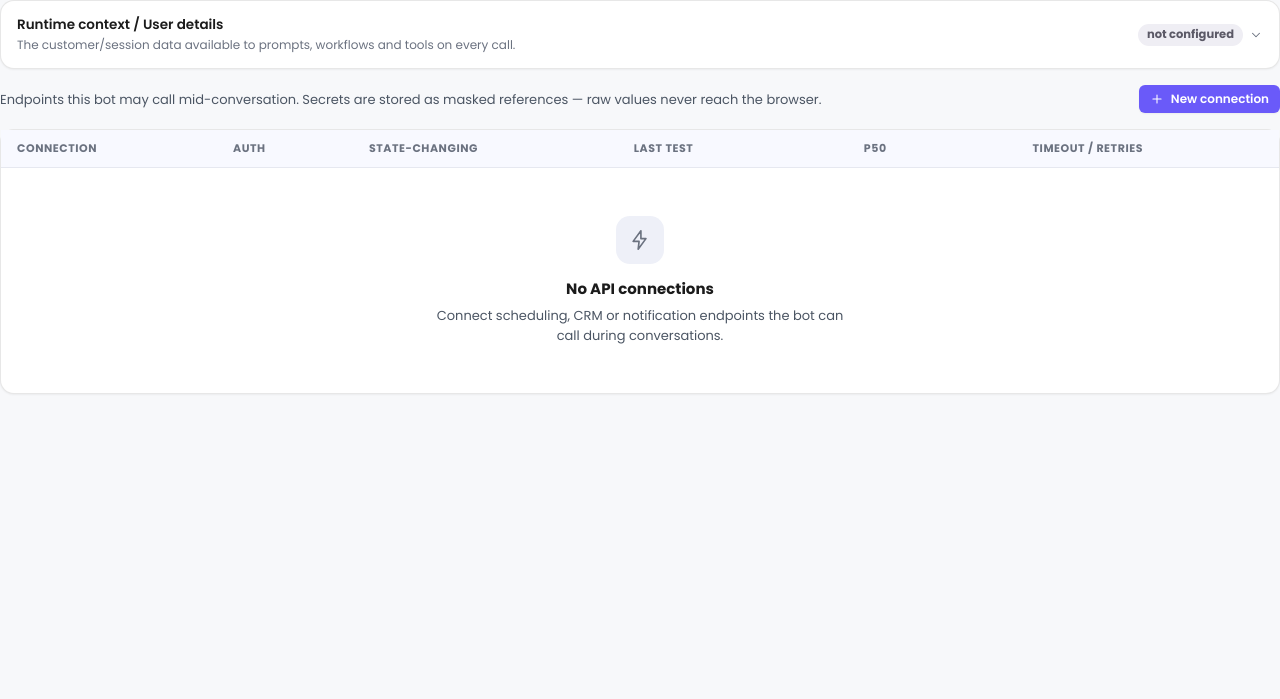
Test: ApisTab runtime-context test user form › shows configured custom fields without requiring JSON editing
Click the text "Runtime context / User details": coordinates (120, 24) [17,15,223,34]
(page scrolled)
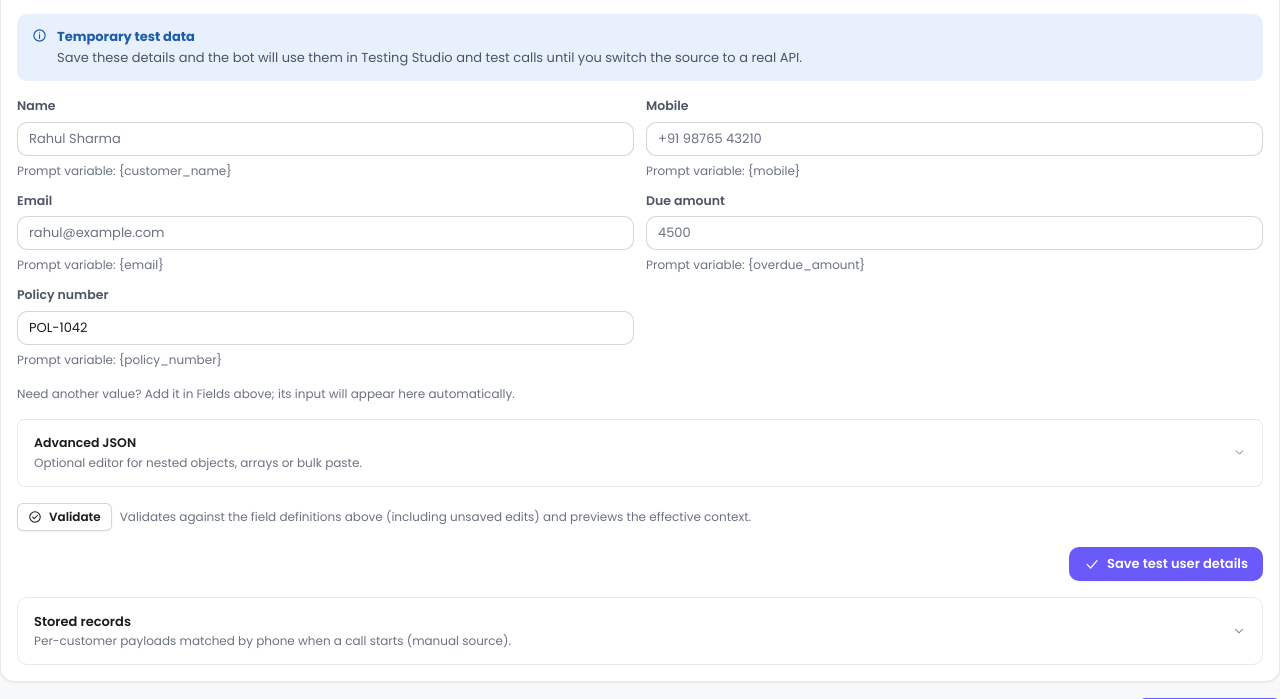
Now the field showing "POL-1042" is shown, box [17,311,634,345]
Now the text "Prompt variable: {policy_number}" is shown, box [17,351,222,368]
